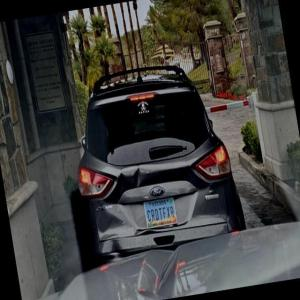Plate: (143, 197, 178, 229)
